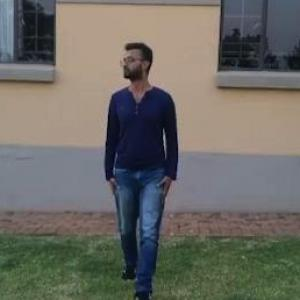follow: (93, 27, 185, 299)
